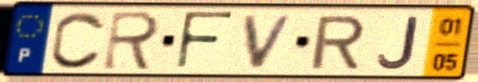C: (48, 9, 109, 71)
F: (173, 9, 237, 73)
J: (375, 14, 420, 71)
R: (100, 9, 164, 72), (307, 13, 368, 71)
V: (241, 13, 299, 71)
